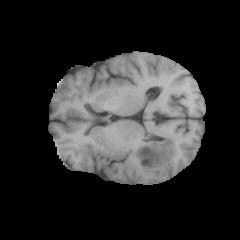glioma: (134, 136, 177, 175)
